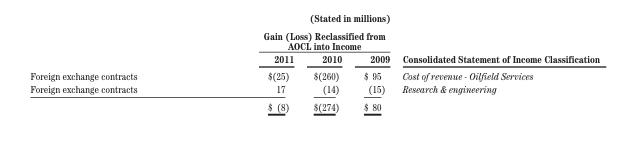table: (29, 29, 598, 111)
table column: (395, 29, 598, 111), (29, 29, 199, 111), (199, 29, 303, 111), (303, 29, 352, 111), (352, 29, 395, 111)
table column header: (29, 29, 598, 66)
table row: (29, 29, 598, 51), (29, 66, 598, 82), (29, 51, 598, 66), (29, 82, 598, 97), (29, 97, 598, 111)
table spanning cell: (395, 29, 598, 66), (199, 29, 395, 51)
